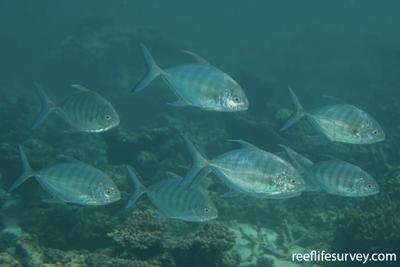Carangidae -Jacks-: (133, 34, 251, 116), (177, 126, 308, 199), (3, 138, 120, 204), (275, 84, 386, 148), (119, 157, 221, 223), (21, 69, 121, 135), (287, 150, 381, 199)
